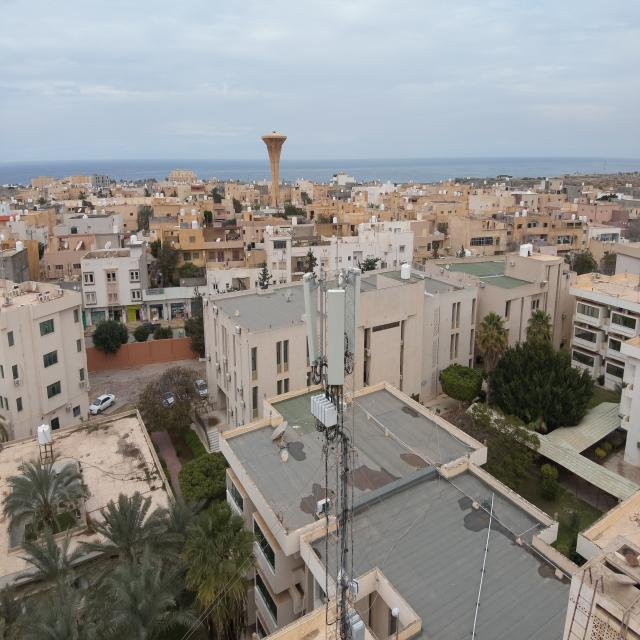antenna: (326, 288, 346, 387), (302, 271, 322, 367), (347, 265, 358, 358)
lighnig-rad: (336, 174, 340, 276)
microware-dish: (336, 567, 361, 597)
power-box: (340, 605, 365, 640)
radio-unit: (310, 393, 339, 429)
